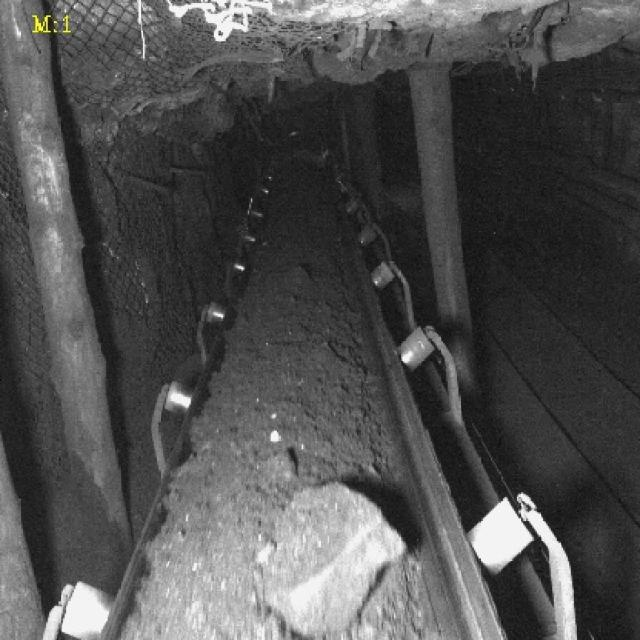large_sized_coal: (259, 484, 406, 636)
